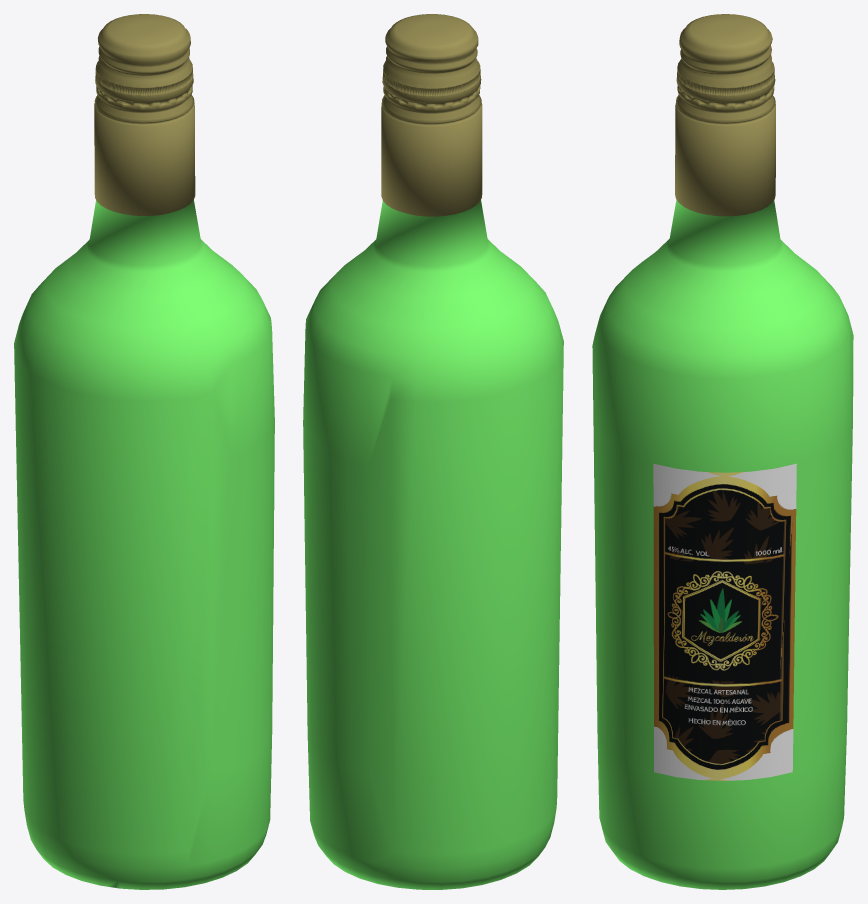
Rendered from botella_cristal_mejora.glb.
The picture shows the model from 3 angles, left to right: view 1: azimuth 30°, elevation 25°; view 2: azimuth 150°, elevation 25°; view 3: azimuth 270°, elevation 25°; orthographic projection.
Parts seen in each view (by area): view 1: WineBottle_1, WineBottle_0; view 2: WineBottle_1, WineBottle_0; view 3: WineBottle_1, WineBottle_0.
Part boxes in pixels (x1,y1,x2,y2): WineBottle_1: (14,200,274,889); WineBottle_0: (94,14,195,215); WineBottle_1: (303,200,563,889); WineBottle_0: (381,14,482,216); WineBottle_1: (592,200,853,889); WineBottle_0: (675,14,775,216).
Bounding box in the file's own units: 1.98 × 6.87 × 1.98.
3 materials, 1 textured.
